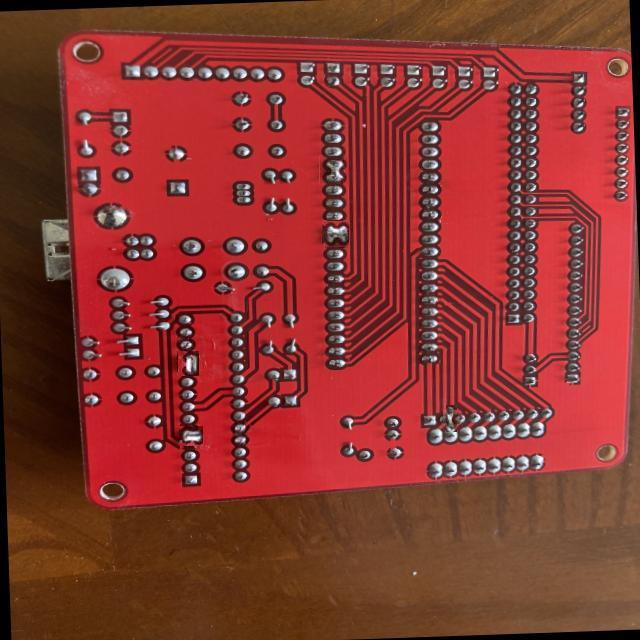damged: (319, 156, 348, 185), (321, 221, 349, 248), (178, 351, 200, 376), (179, 425, 202, 448), (442, 409, 461, 428)
